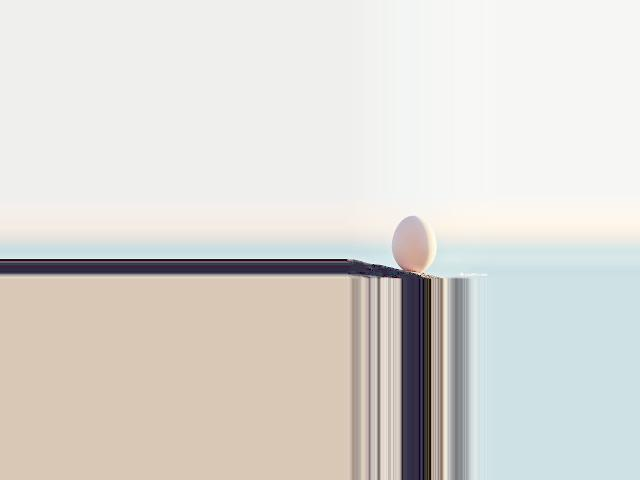egg: (391, 215, 437, 272)
